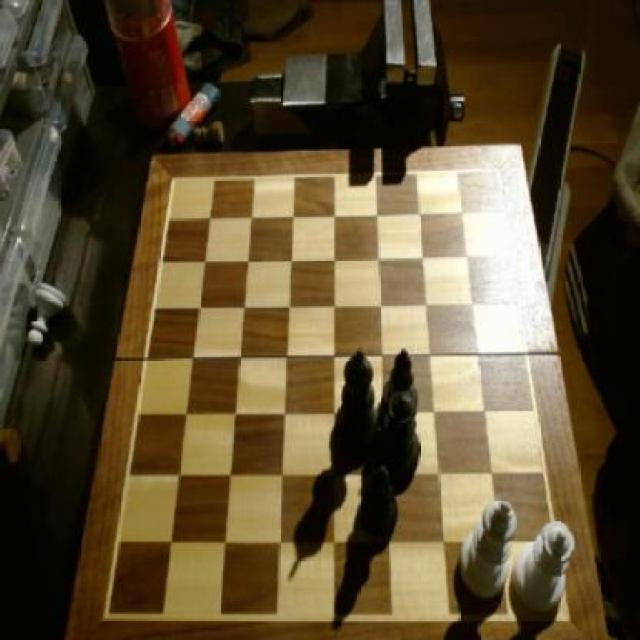bishop: (361, 462, 404, 538), (380, 346, 417, 425)
black-bishop: (335, 348, 381, 463)
black-pawn: (383, 390, 422, 486)
white-bishop: (455, 494, 518, 601)
white-pawn: (514, 518, 574, 620)
